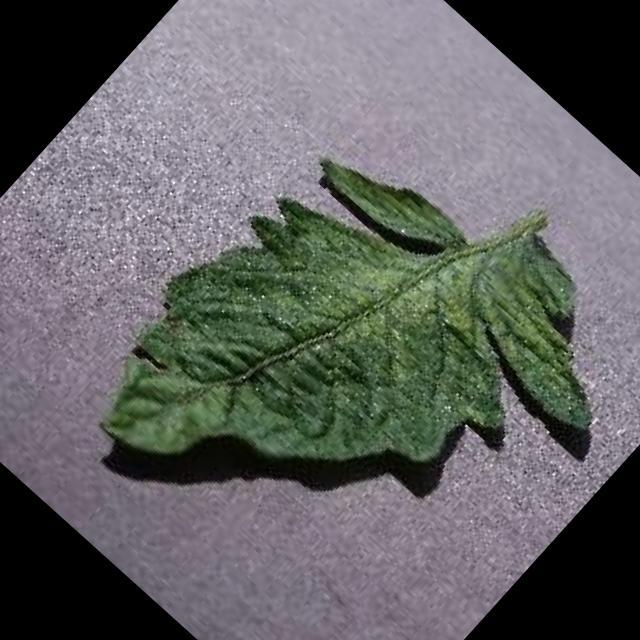Tomato mosaic virus leaf: (65, 72, 640, 640)
